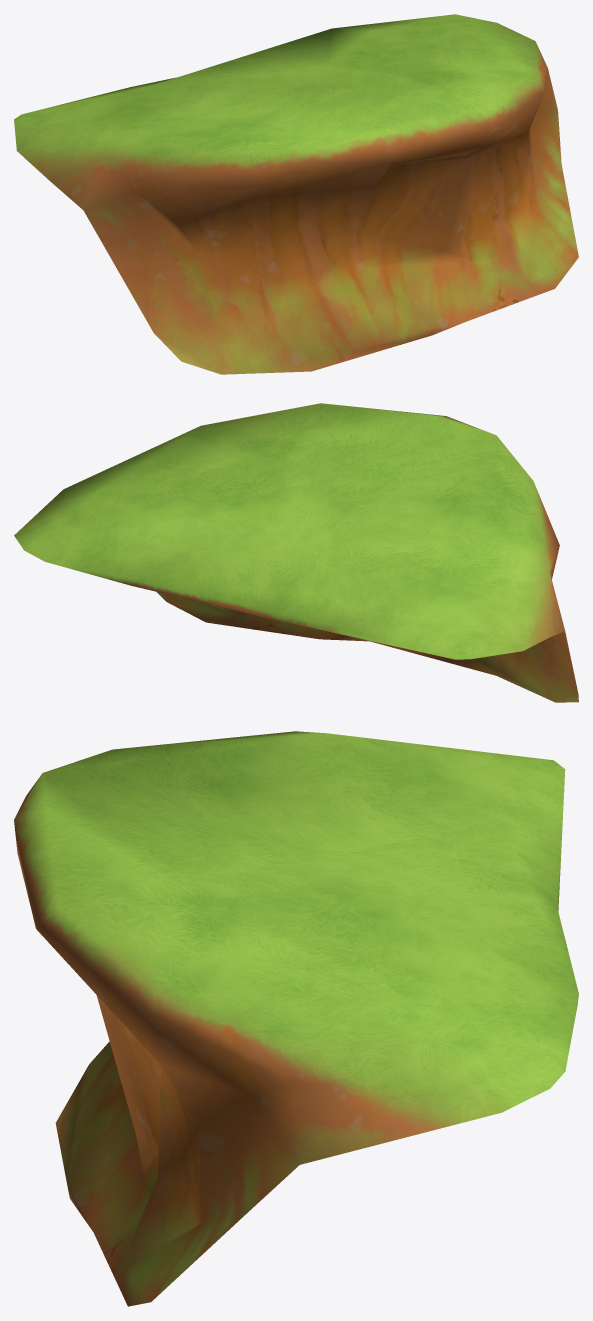
The model's file is ENV0110003.FBX.
The picture shows the model from 3 angles, top to bottom: view 1: azimuth 30°, elevation 25°; view 2: azimuth 150°, elevation 25°; view 3: azimuth 270°, elevation 25°; orthographic projection. The views are drawn at different scales.
Parts seen in each view (by area): view 1: smENV0110003; view 2: smENV0110003; view 3: smENV0110003.
Boxes of the visible parts, left/top/right/bottom form: smENV0110003: left=14, top=14, right=578, bottom=374; smENV0110003: left=14, top=403, right=578, bottom=702; smENV0110003: left=14, top=731, right=578, bottom=1306.
Bounding box in the file's own units: 34.96 × 15.98 × 22.99.
Materials: 1 (1 with a texture image).
